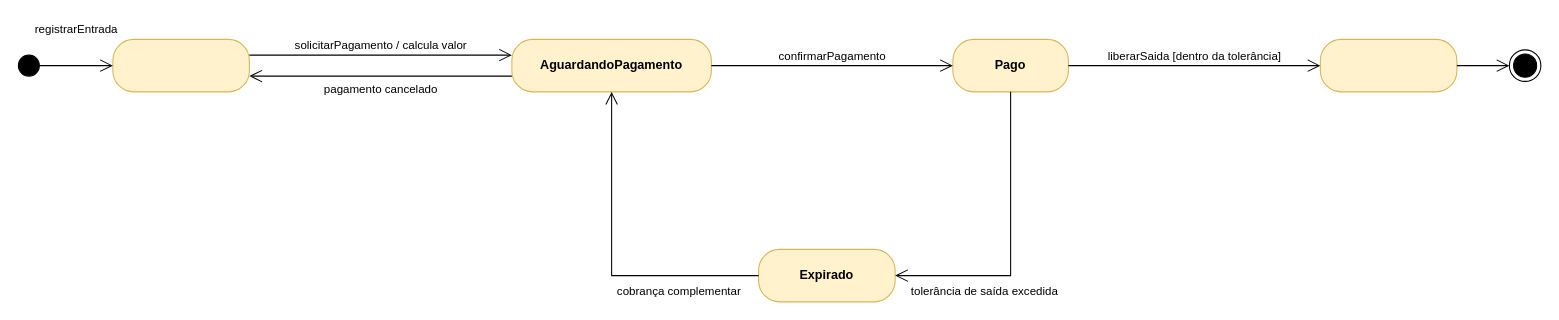
Some shapes in this 1559 by 320 pixel diagram are drawn without their labels. The shapes that lost their labels are listed below. From the top down, each one's box as (x1, y1, x2, y2) in pixels, then its label:
(112, 38, 249, 92): EmAberto
(1319, 38, 1457, 92): Finalizado
